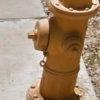Hydrant: (25, 0, 93, 100)
